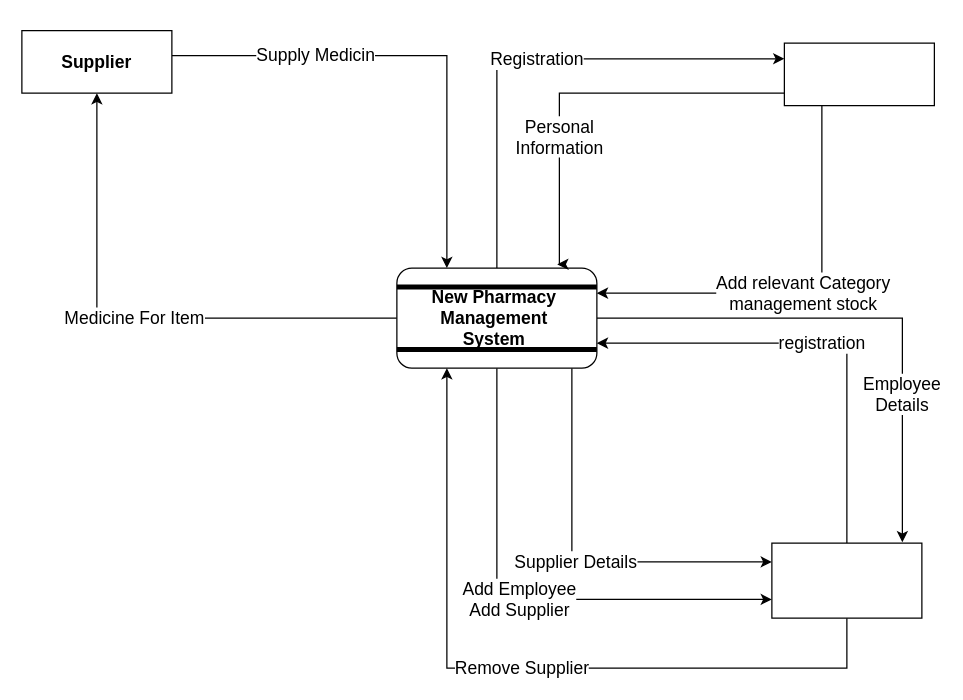
Image size: 963x700. Some labels were removed from this diagram. Here are the shapes that lost their labels. From the top down, the centre of each, then its label:
At point (858, 74): "Employee".
At point (846, 580): "Owner".
